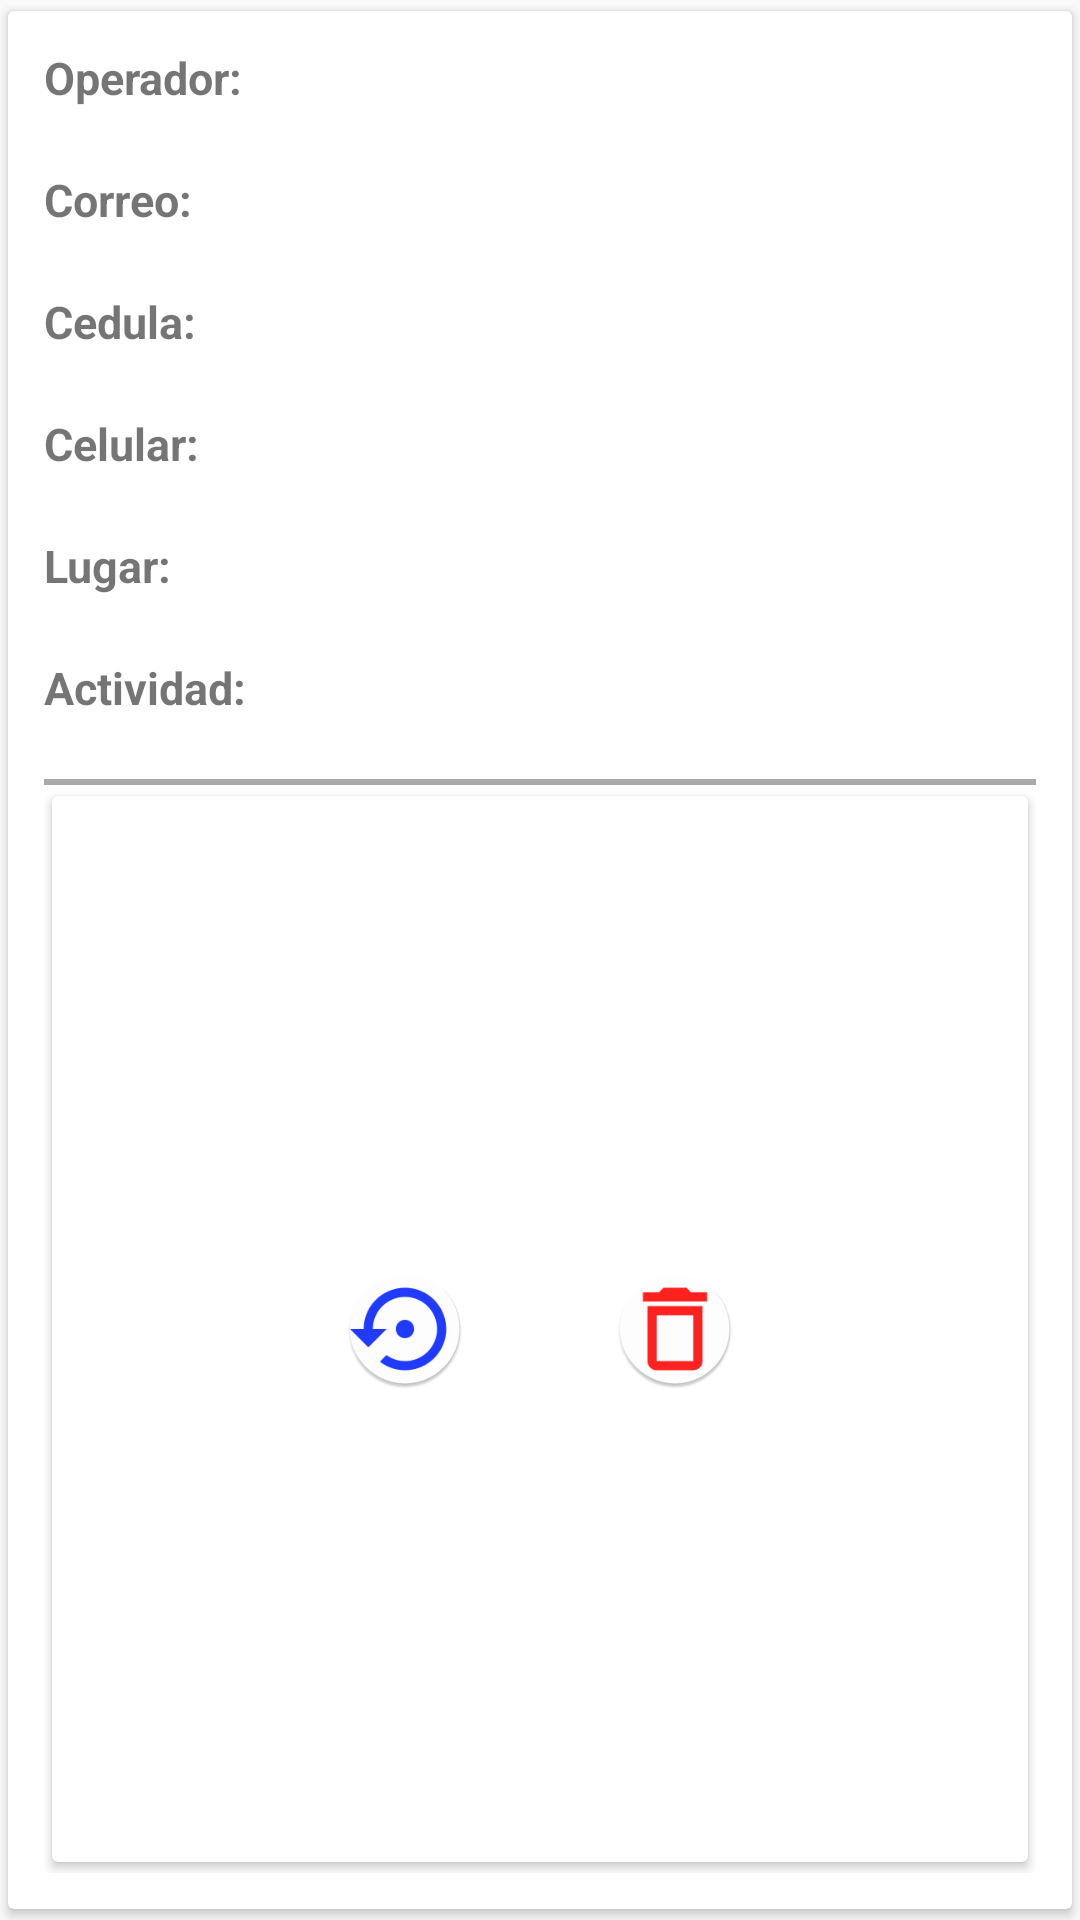

Icon bounding boxes for this 1080 × 1920 phone screenshot, format (x1, y1, x2, y2):
actu: (350, 1287, 461, 1387)
borrar: (622, 1287, 731, 1387)
